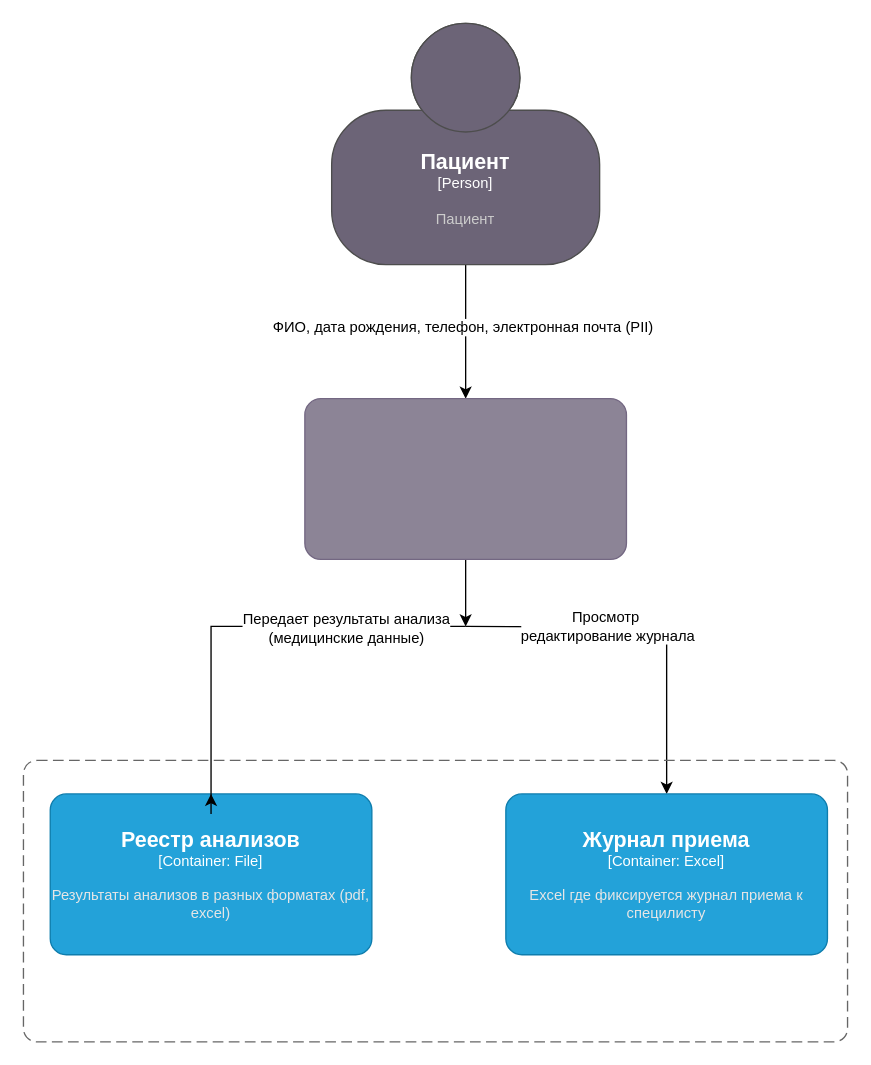
Image size: 871x1065. Some labels were removed from this diagram. Here are the shapes that lost their labels. From the top down, the box of each, then its label:
(304, 397, 626, 559): Laboratory [Software System] Медицинская лаборатория
(22, 759, 848, 1042): FileSystem [Хранилище файлов на диске]
